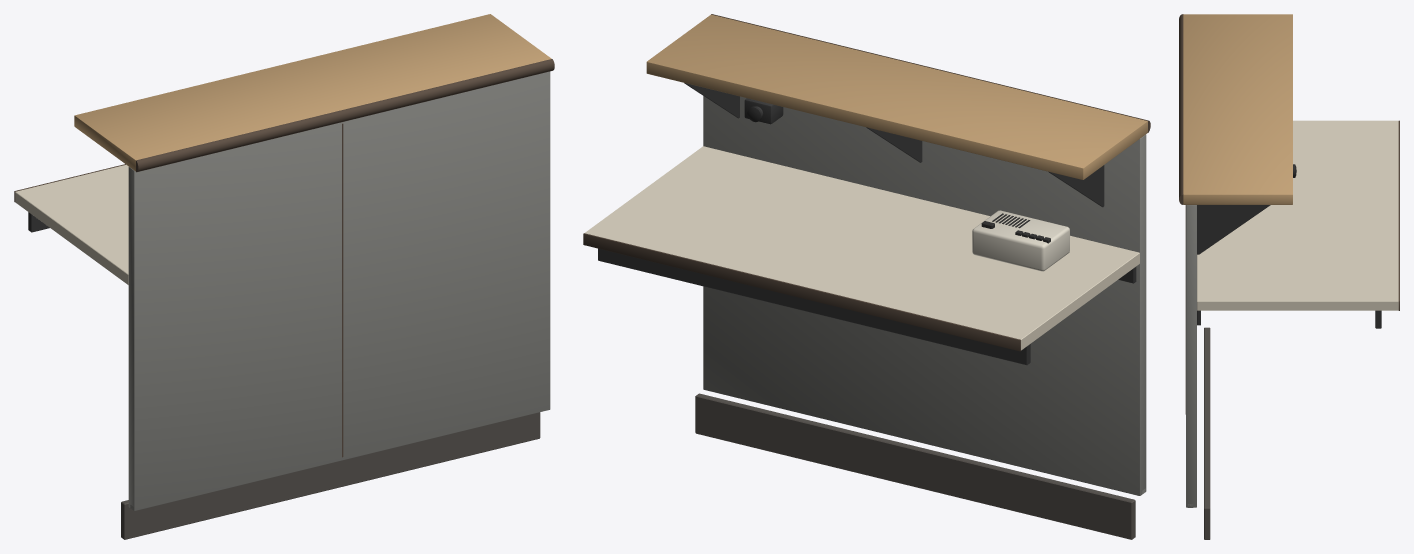
File: Kit_StationCounter_Run120.fbx
3 views of the same model, side by side, from view 1: azimuth 30°, elevation 25°; view 2: azimuth 150°, elevation 25°; view 3: azimuth 270°, elevation 25° (orthographic). The views are drawn at different scales.
Parts seen in each view (by area): view 1: Kit_StationCounter_Run120_LOD0; view 2: Kit_StationCounter_Run120_LOD0; view 3: Kit_StationCounter_Run120_LOD0.
Part boxes in pixels (x1=…): Kit_StationCounter_Run120_LOD0: x1=14, y1=14, x2=554, y2=539; Kit_StationCounter_Run120_LOD0: x1=583, y1=14, x2=1150, y2=539; Kit_StationCounter_Run120_LOD0: x1=1179, y1=14, x2=1399, y2=539.
Size of what is drawn, in the model's own units: 1.2 by 1.07 by 0.62.
